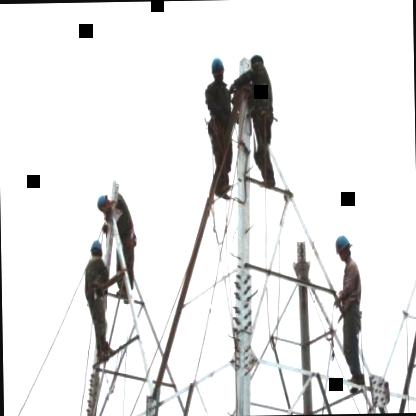helmet: (332, 232, 353, 264), (209, 51, 224, 81), (96, 191, 113, 214), (89, 238, 104, 262)
